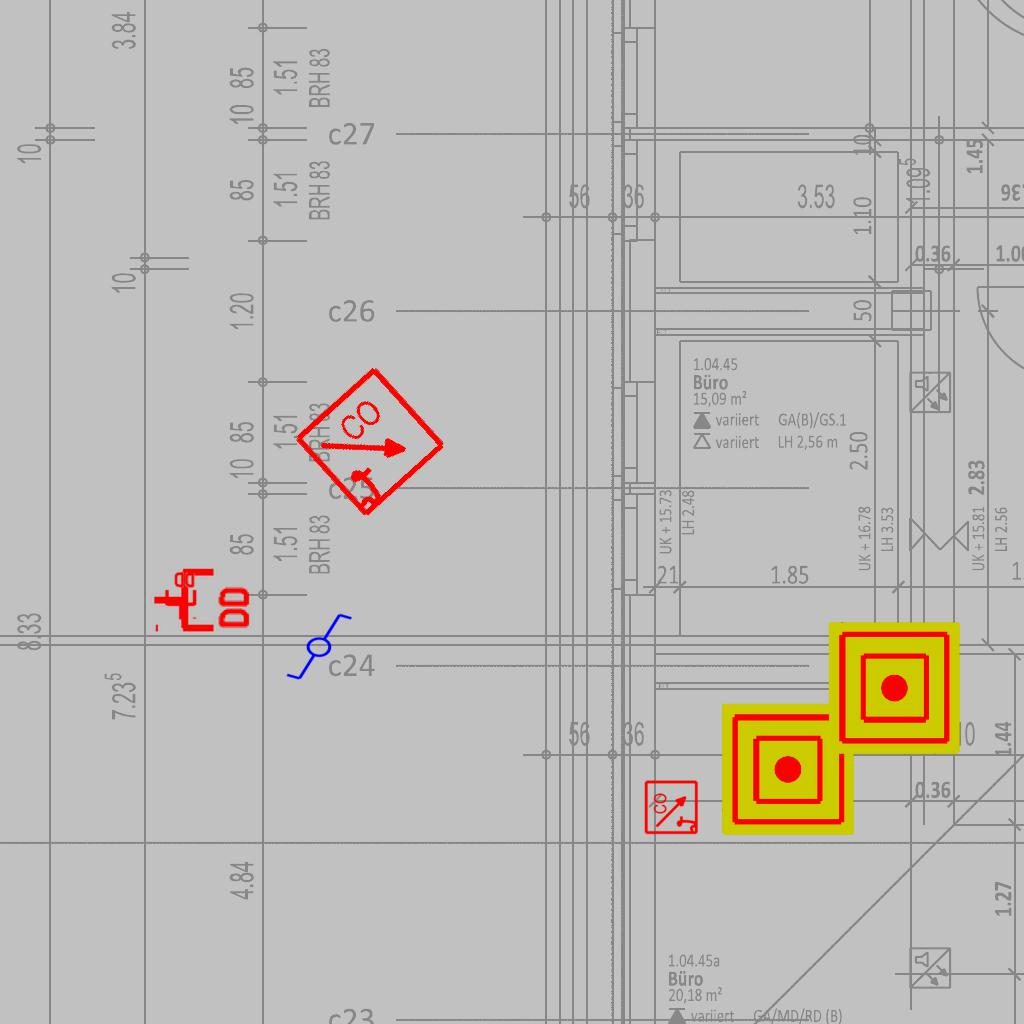Datenanschluss_zweifach: (151, 564, 254, 633), (163, 570, 197, 621)
NAM-Nichtautomatischer_Melder: (722, 703, 854, 835), (828, 622, 960, 754)
ROA_Rauchmelder_optisch_mit_Signalgeber_(Sockelsirene): (291, 362, 452, 523), (644, 779, 700, 835)
Wechselschalter: (276, 610, 354, 682)
